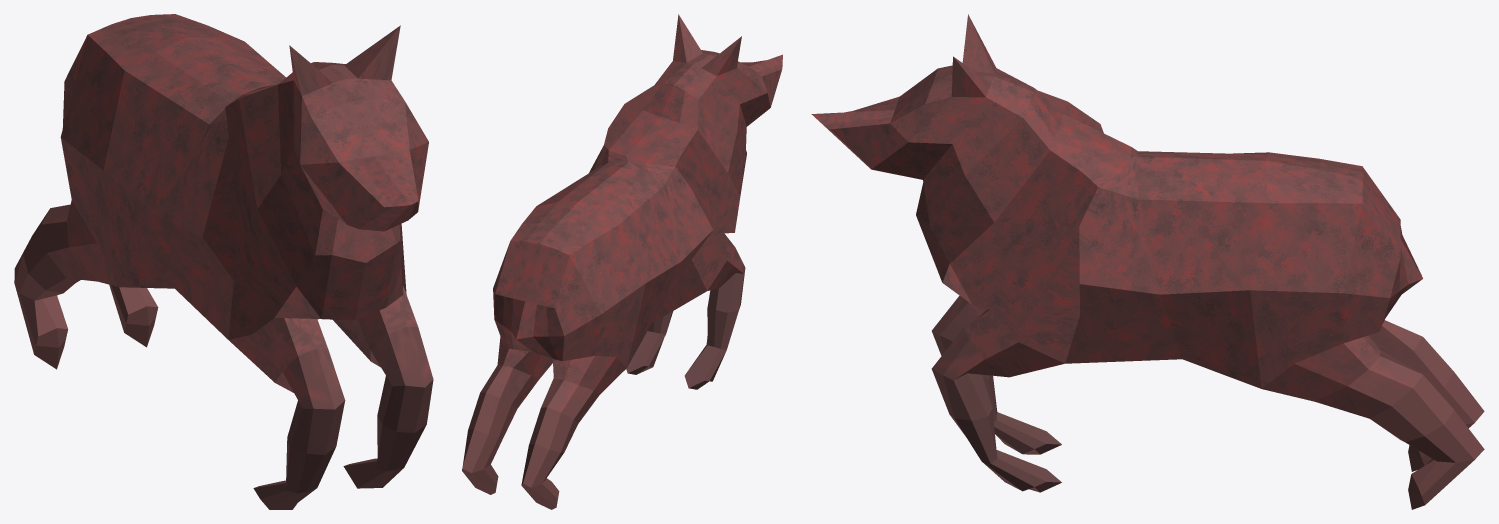
The model's file is piesblend_000010.obj.
The picture shows the model from 3 angles, left to right: view 1: azimuth 30°, elevation 25°; view 2: azimuth 150°, elevation 25°; view 3: azimuth 270°, elevation 25°; orthographic projection. The views are drawn at different scales.
Parts seen in each view (by area): view 1: Cube; view 2: Cube; view 3: Cube.
Boxes of the visible parts, bbox=[...] form: Cube: bbox=[14, 14, 433, 509]; Cube: bbox=[462, 14, 782, 509]; Cube: bbox=[811, 14, 1484, 509].
Bounding box in the file's own units: 2.56 × 6.91 × 9.4.
1 material, 1 textured.
